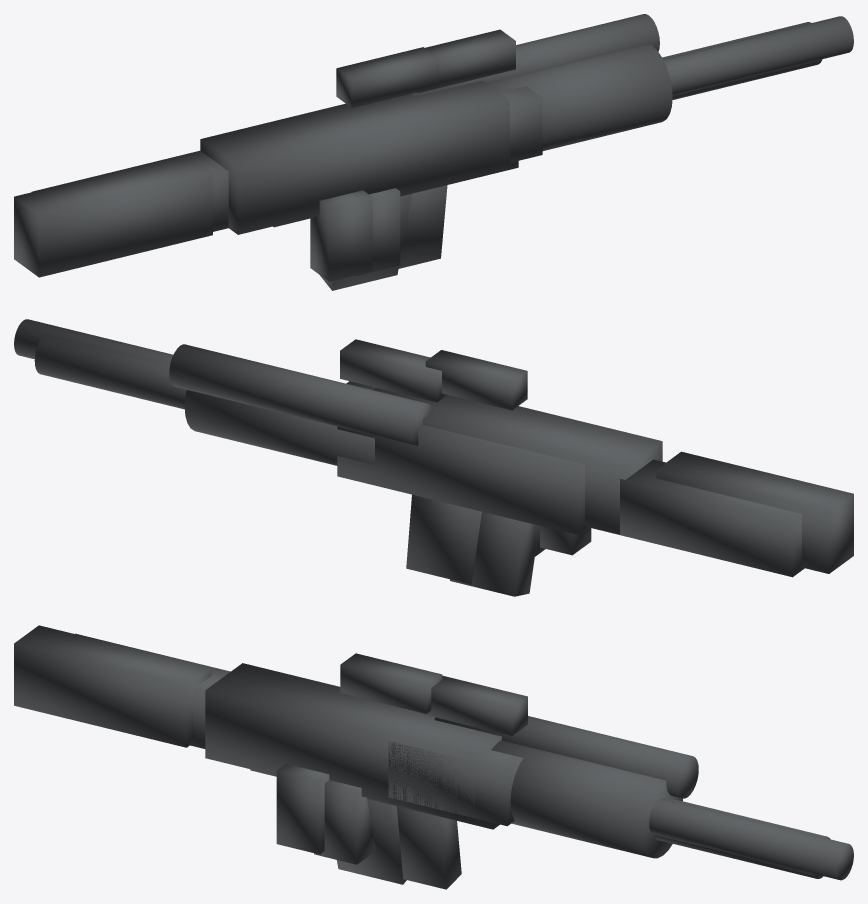
File: weapons_trimsheet.glb
3 renders of one model, top to bottom at view 1: azimuth 30°, elevation 25°; view 2: azimuth 150°, elevation 25°; view 3: azimuth 330°, elevation 25°, orthographic.
Parts seen in each view (by area): view 1: AK74_Base, M4A1_Base; view 2: M4A1_Base, AK74_Base; view 3: AK74_Base, M4A1_Base.
Part boxes in pixels (left/top/right/bottom): AK74_Base: left=14, top=14, right=853, bottom=290; M4A1_Base: left=32, top=22, right=822, bottom=275; M4A1_Base: left=34, top=334, right=804, bottom=584; AK74_Base: left=14, top=319, right=853, bottom=596; AK74_Base: left=14, top=625, right=853, bottom=884; M4A1_Base: left=75, top=633, right=830, bottom=889.
Bounding box in the file's own units: 1.51 × 0.378 × 0.185.
Materials: 1 (1 with a texture image).
